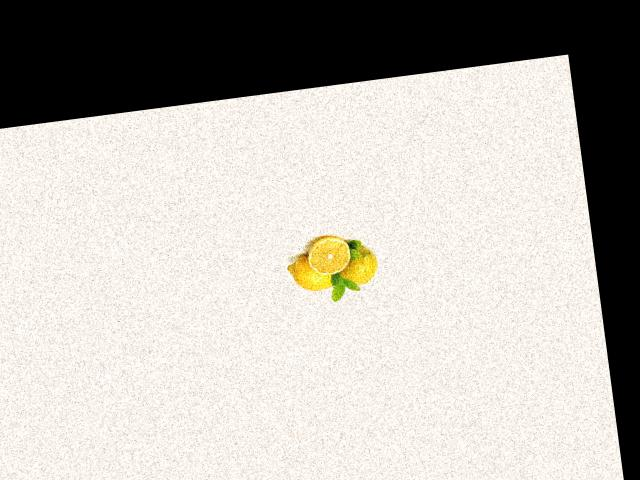lemon: (330, 240, 383, 291)
